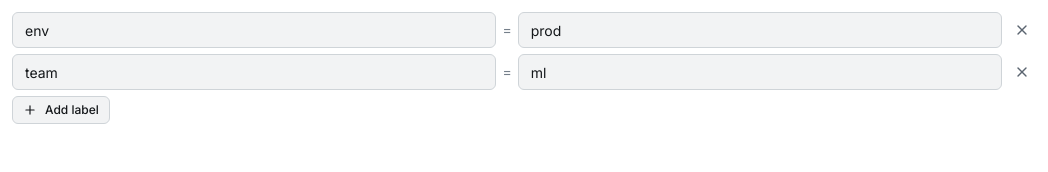
Test: LabelsEditor › removing a row drops it from the reported record
This screenshot has width=1048, height=172.
Click the button named "remove env".
click(1022, 30)  # box [1008,16,1036,44]
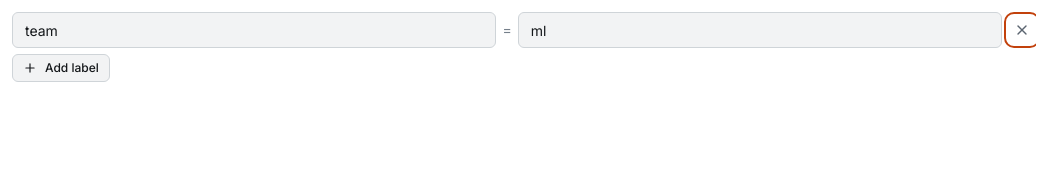
Check: the number of fields named "Label key" is 1, box [12,12,496,48]
